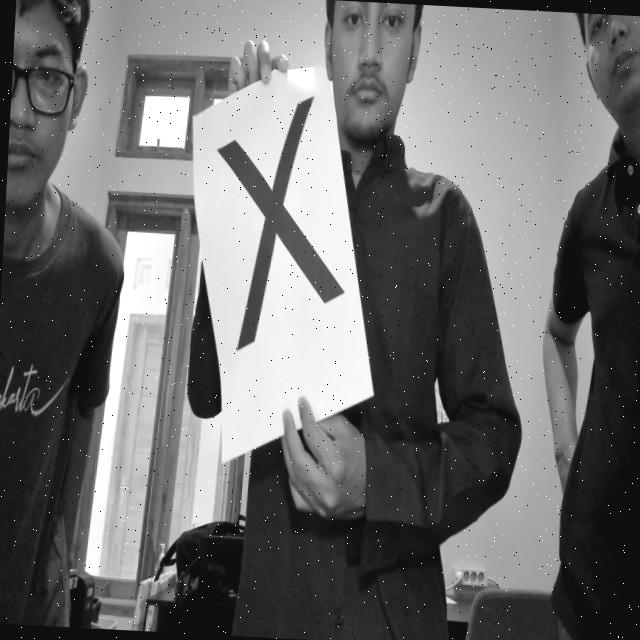x: (196, 80, 380, 366)
